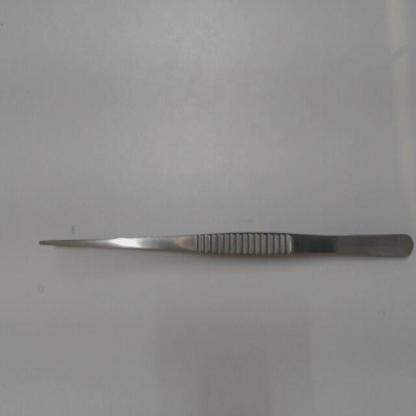DeBakey Dissector: (18, 216, 412, 272)
